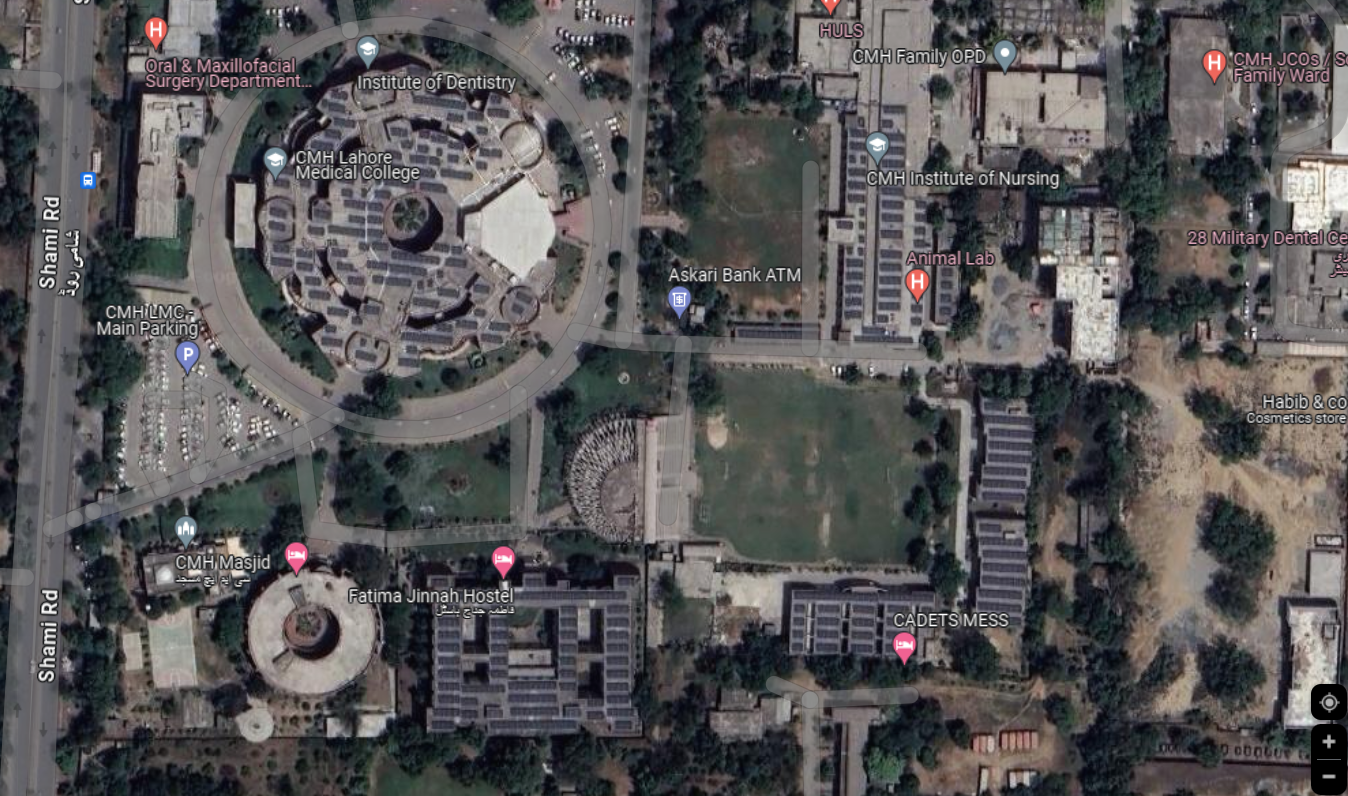solar-panel: (427, 590, 640, 744), (840, 114, 909, 348), (294, 278, 467, 363), (985, 390, 1046, 628), (792, 588, 928, 664), (341, 244, 479, 302), (265, 148, 334, 258), (415, 59, 517, 130), (391, 124, 484, 193), (483, 280, 545, 342), (324, 96, 368, 159), (738, 325, 825, 344)
